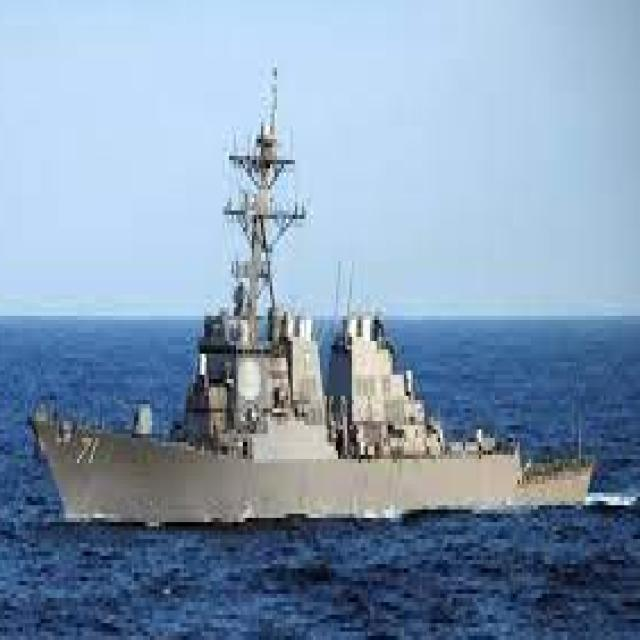navalvessels: (22, 67, 601, 535)
